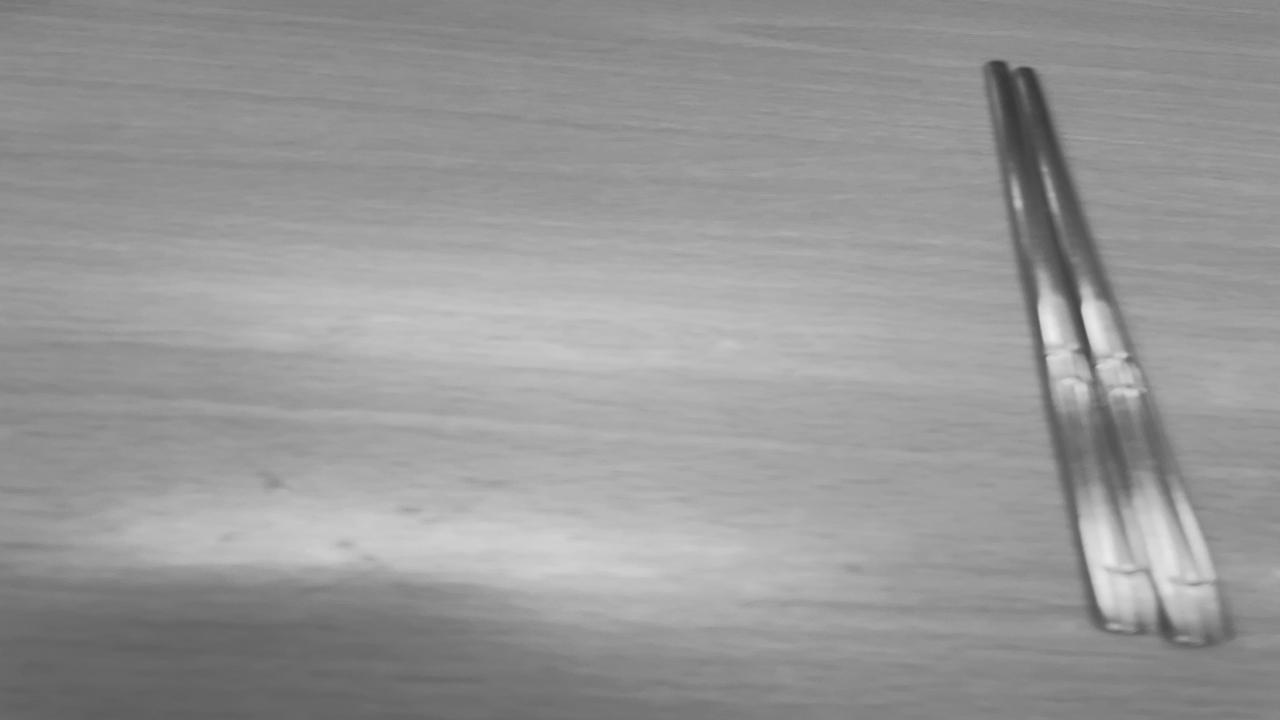chopstick: (988, 62, 1228, 639)
